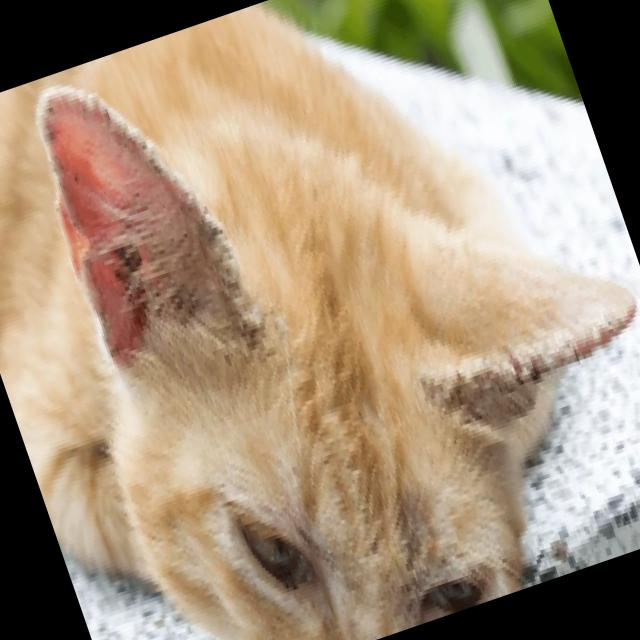Mange: (420, 324, 610, 416), (50, 198, 122, 360), (187, 200, 251, 333), (98, 222, 155, 305), (387, 549, 436, 618), (125, 122, 179, 182), (158, 272, 208, 330), (428, 539, 468, 584), (34, 110, 66, 156)
